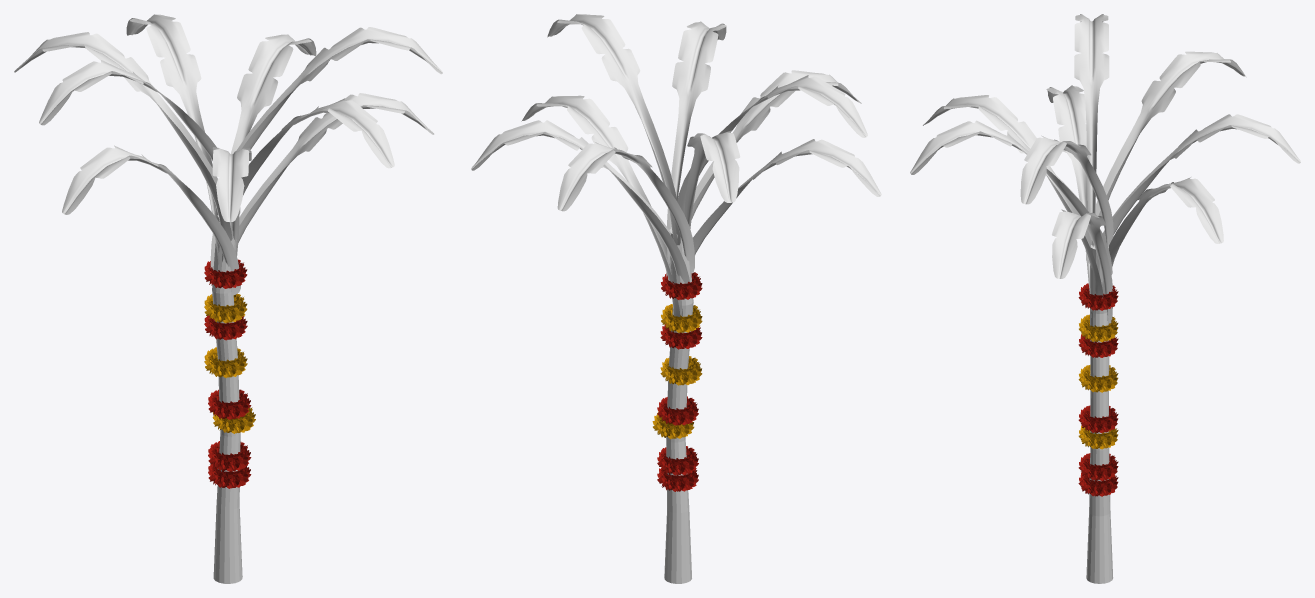
Rendered from bananatree3.fbx.
3 views of the same model, side by side, from view 1: azimuth 30°, elevation 25°; view 2: azimuth 150°, elevation 25°; view 3: azimuth 270°, elevation 25° (orthographic). The views are drawn at different scales.
Visible parts, largest first — view 1: Plane, Cylinder, Cube.217, Cube.214, Cube.215, Cube.216, Cube.218, Cube.212, Cube.213, Cube.211; view 2: Plane, Cylinder, Cube.217, Cube.215, Cube.216, Cube.214, Cube.218, Cube.213, Cube.212, Cube.211; view 3: Plane, Cylinder, Cube.217, Cube.215, Cube.214, Cube.216, Cube.218, Cube.211, Cube.212, Cube.213.
Part boxes in pixels (x1,y1,x2,y2): Plane: (14, 14, 442, 295); Cylinder: (212, 215, 242, 583); Cube.217: (204, 347, 247, 377); Cube.214: (208, 441, 251, 471); Cube.215: (208, 389, 251, 419); Cube.216: (204, 293, 247, 323); Cube.218: (204, 259, 247, 288); Cube.212: (204, 315, 247, 340); Cube.213: (208, 464, 251, 488); Cube.211: (212, 407, 255, 433); Plane: (471, 14, 881, 316); Cylinder: (664, 228, 693, 583); Cube.217: (660, 356, 702, 385); Cube.215: (657, 396, 698, 425); Cube.216: (661, 304, 702, 332); Cube.214: (657, 446, 698, 475); Cube.218: (661, 272, 702, 299); Cube.213: (657, 467, 698, 491); Cube.212: (660, 324, 702, 349); Cube.211: (652, 411, 694, 439); Plane: (910, 14, 1300, 325); Cylinder: (1086, 245, 1113, 583); Cube.217: (1078, 365, 1118, 392); Cube.215: (1078, 405, 1118, 433); Cube.214: (1078, 453, 1118, 480); Cube.216: (1079, 314, 1118, 342); Cube.218: (1078, 283, 1118, 310); Cube.211: (1078, 426, 1118, 449); Cube.212: (1078, 334, 1118, 357); Cube.213: (1078, 473, 1118, 496).
Size of the model in its own units: 110 by 152 by 108.
